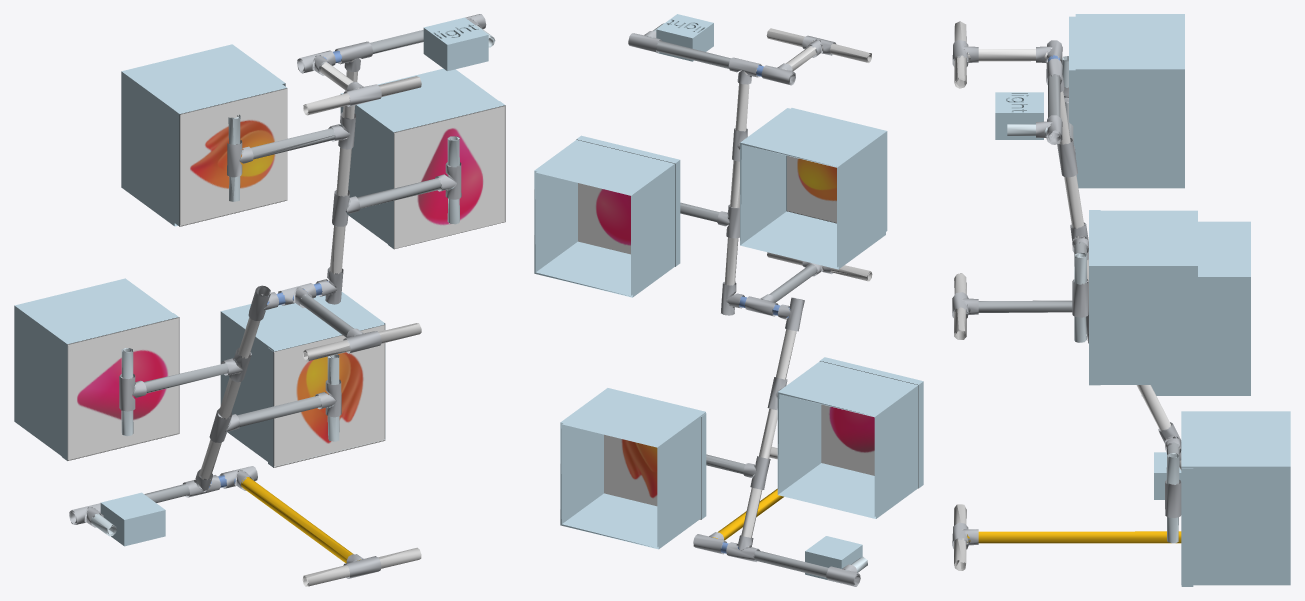
Rendered from bin.obj.
The picture shows the model from 3 angles, left to right: view 1: azimuth 30°, elevation 25°; view 2: azimuth 150°, elevation 25°; view 3: azimuth 270°, elevation 25°; orthographic projection. The views are drawn at different scales.
Visible parts, largest first — view 1: bin; view 2: bin; view 3: bin.
Boxes of the visible parts, x1,y1,x2,y2 form: bin: (14,14,505,586); bin: (534,14,923,586); bin: (952,14,1290,586).
Bounding box in the file's own units: 1.24 × 1.44 × 0.8657.
Materials: 1 (1 with a texture image).
